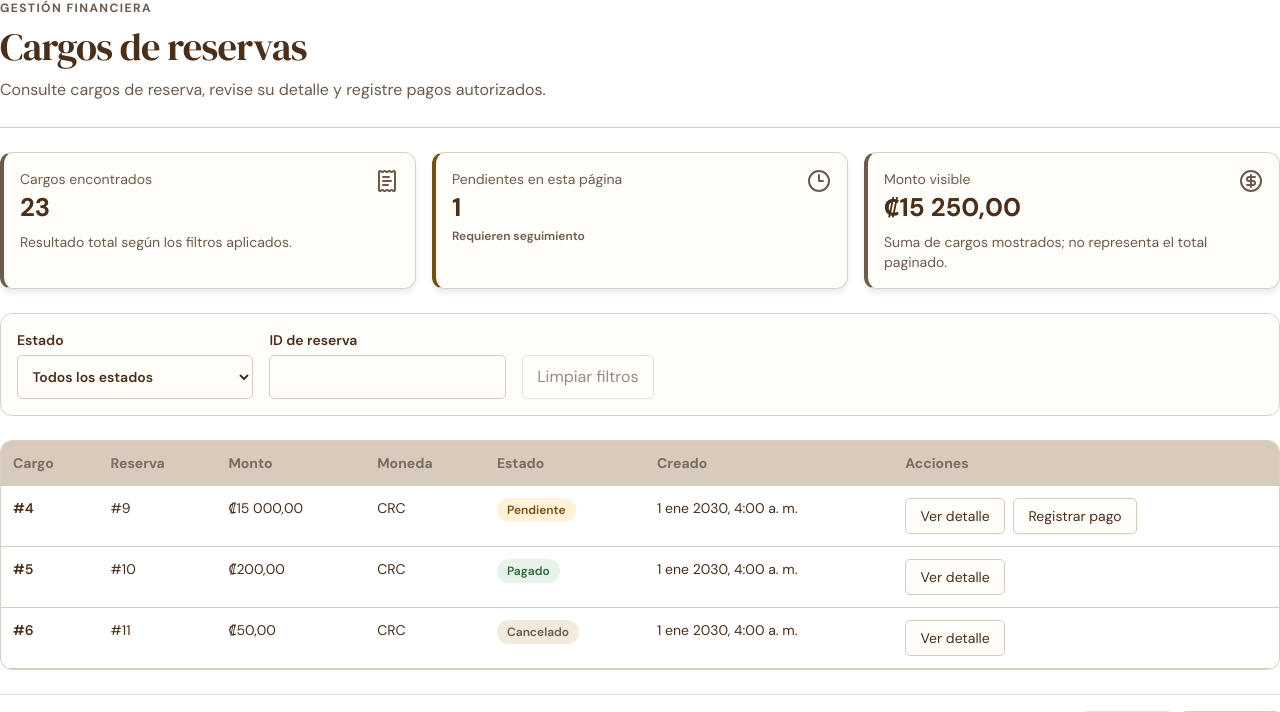
it: FinancialPage › opens the payment modal from a pending charge row
Click the button "Registrar pago": (1075, 516) [1013,498,1137,534]
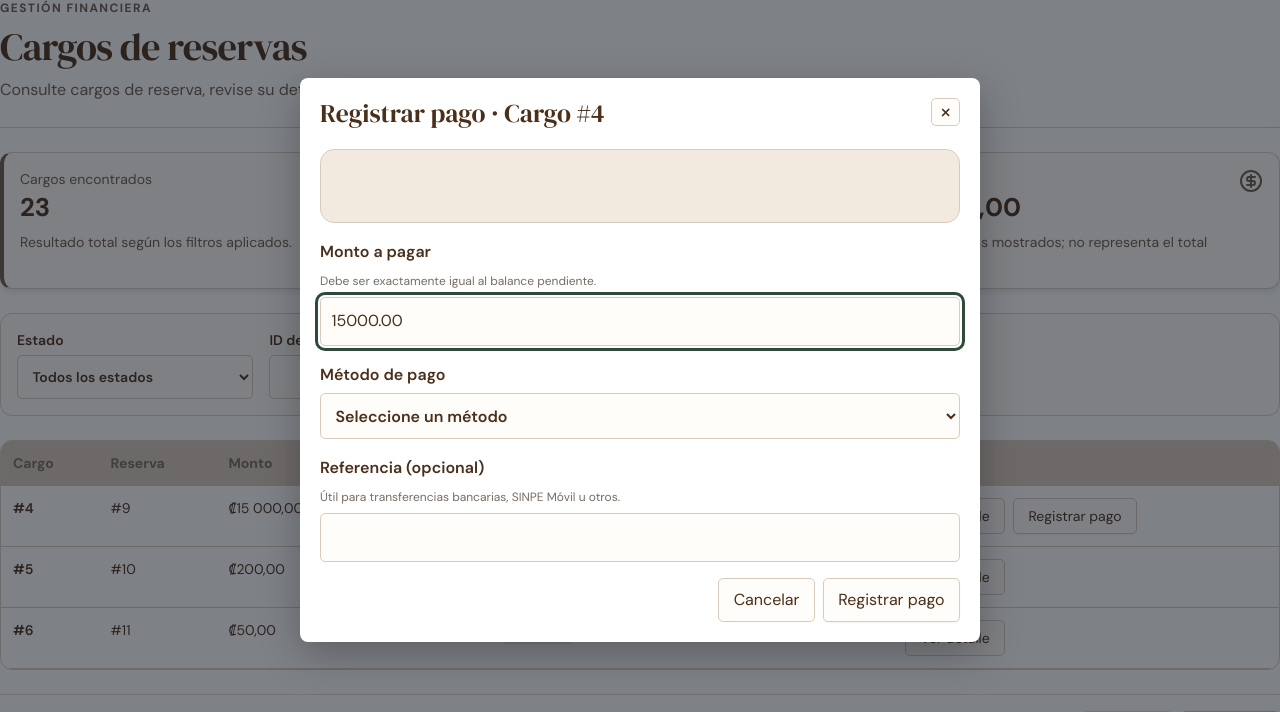
Expected: the dialog "Registrar pago · Cargo #4" is shown, [300,78,980,642]
